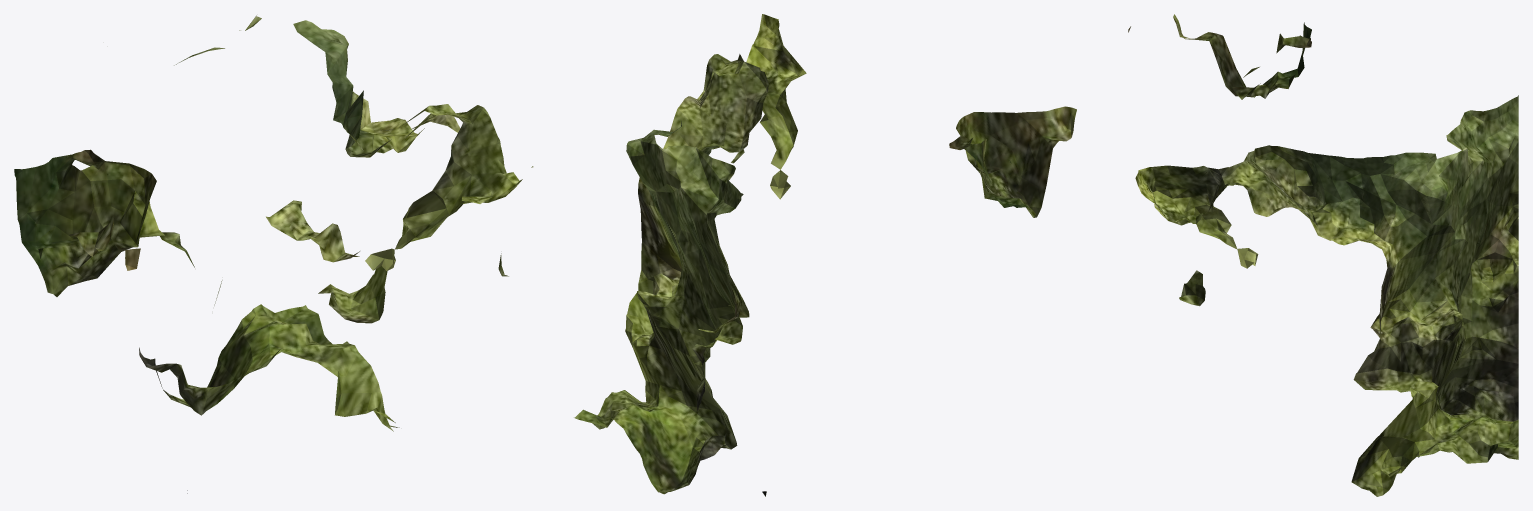
The picture shows the model from 3 angles, left to right: view 1: azimuth 30°, elevation 25°; view 2: azimuth 150°, elevation 25°; view 3: azimuth 270°, elevation 25°; orthographic projection. The views are drawn at different scales.
Bounding box in the file's own units: 5.9 × 5.83 × 5.9.
Materials: 3 (3 with a texture image).
